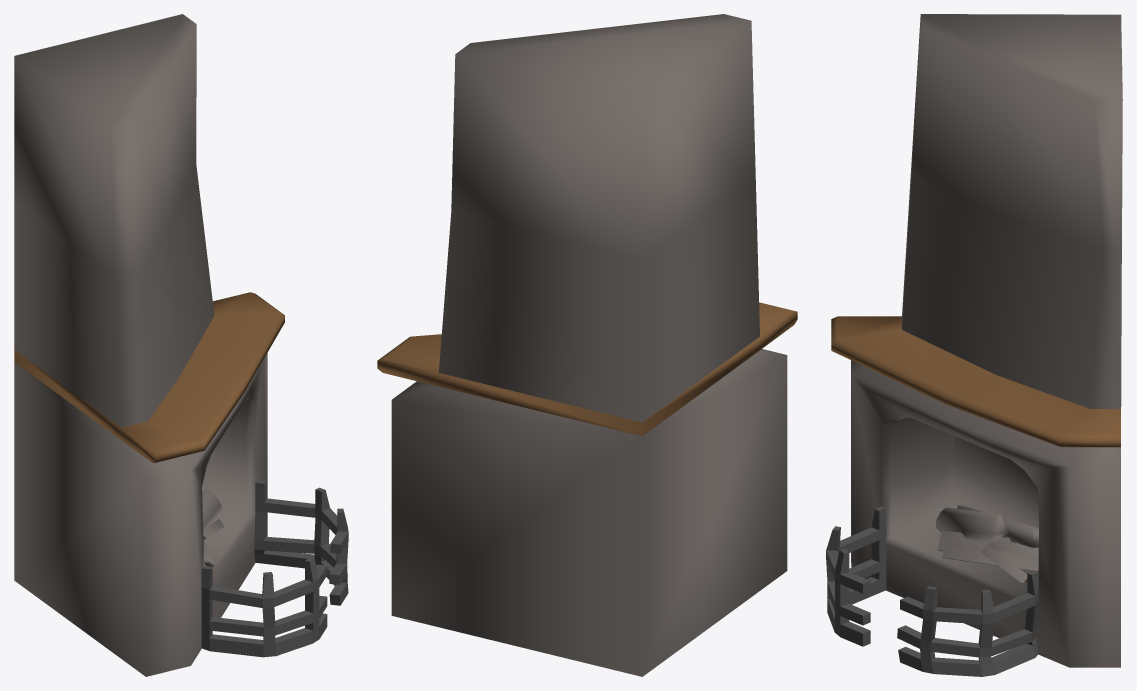
File: Fireplace.glb
3 views of the same model, side by side, from view 1: azimuth 30°, elevation 25°; view 2: azimuth 150°, elevation 25°; view 3: azimuth 270°, elevation 25° (orthographic). The views are drawn at different scales.
Parts seen in each view (by area): view 1: Fireplace; view 2: Fireplace; view 3: Fireplace.
Boxes of the visible parts, left/top/right/bottom form: Fireplace: left=14, top=14, right=348, bottom=676; Fireplace: left=377, top=14, right=797, bottom=676; Fireplace: left=826, top=14, right=1122, bottom=676.
Size of the model in its own units: 1.1 by 2.2 by 1.1.
